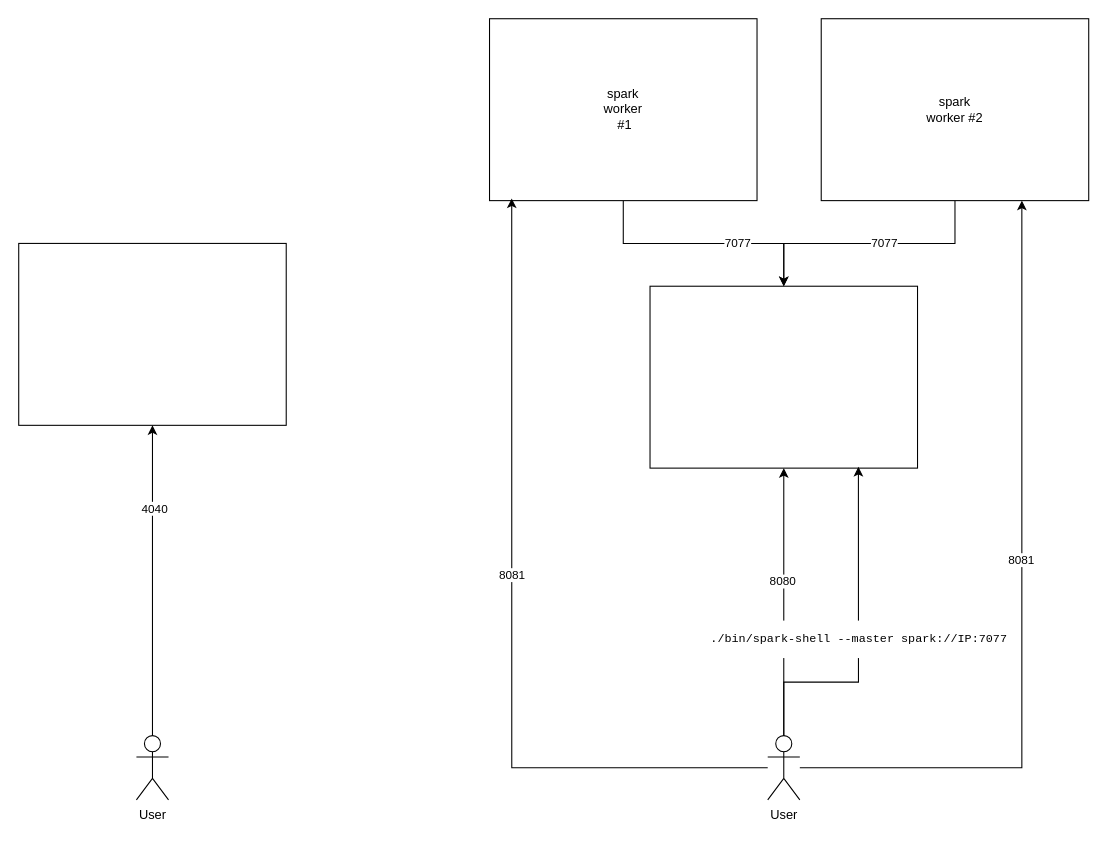
The diagram is 1107 pixels wide and 841 high, and some of its shapes have lost their labels. Here are the shapes that lost their labels. From the top down, the centre of each, then its label:
At pixel 152 333: "spark local".
At pixel 783 376: "spark master".
